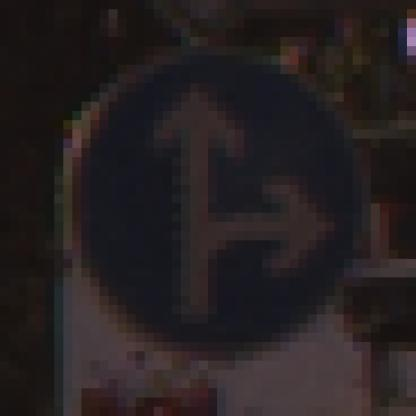Straight or Right: (55, 47, 372, 371)
